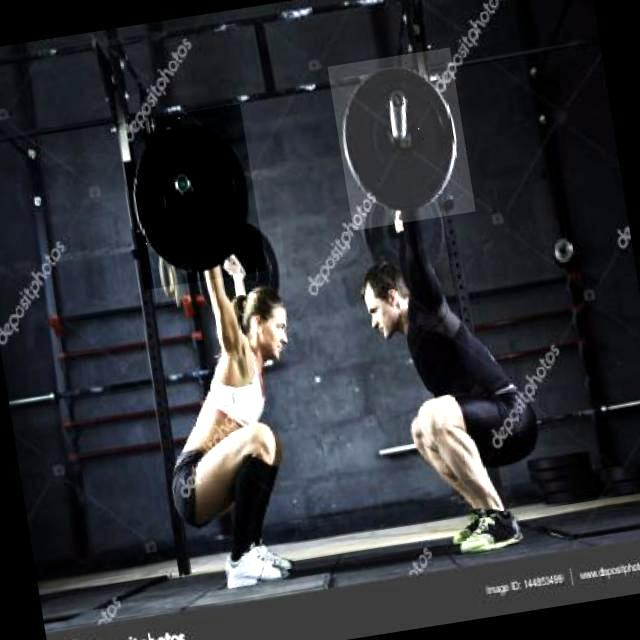barbell: (118, 105, 267, 291), (327, 49, 477, 232)
